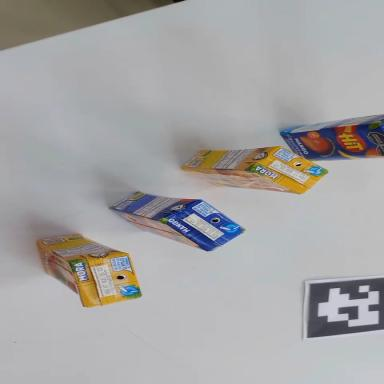HIT-MANGO: (106, 174, 249, 260), (280, 114, 384, 162)
HIT-MORA: (36, 218, 143, 317), (181, 142, 328, 195)
cara_F: (26, 235, 97, 311), (106, 208, 211, 251), (280, 121, 384, 161), (182, 170, 300, 195)
